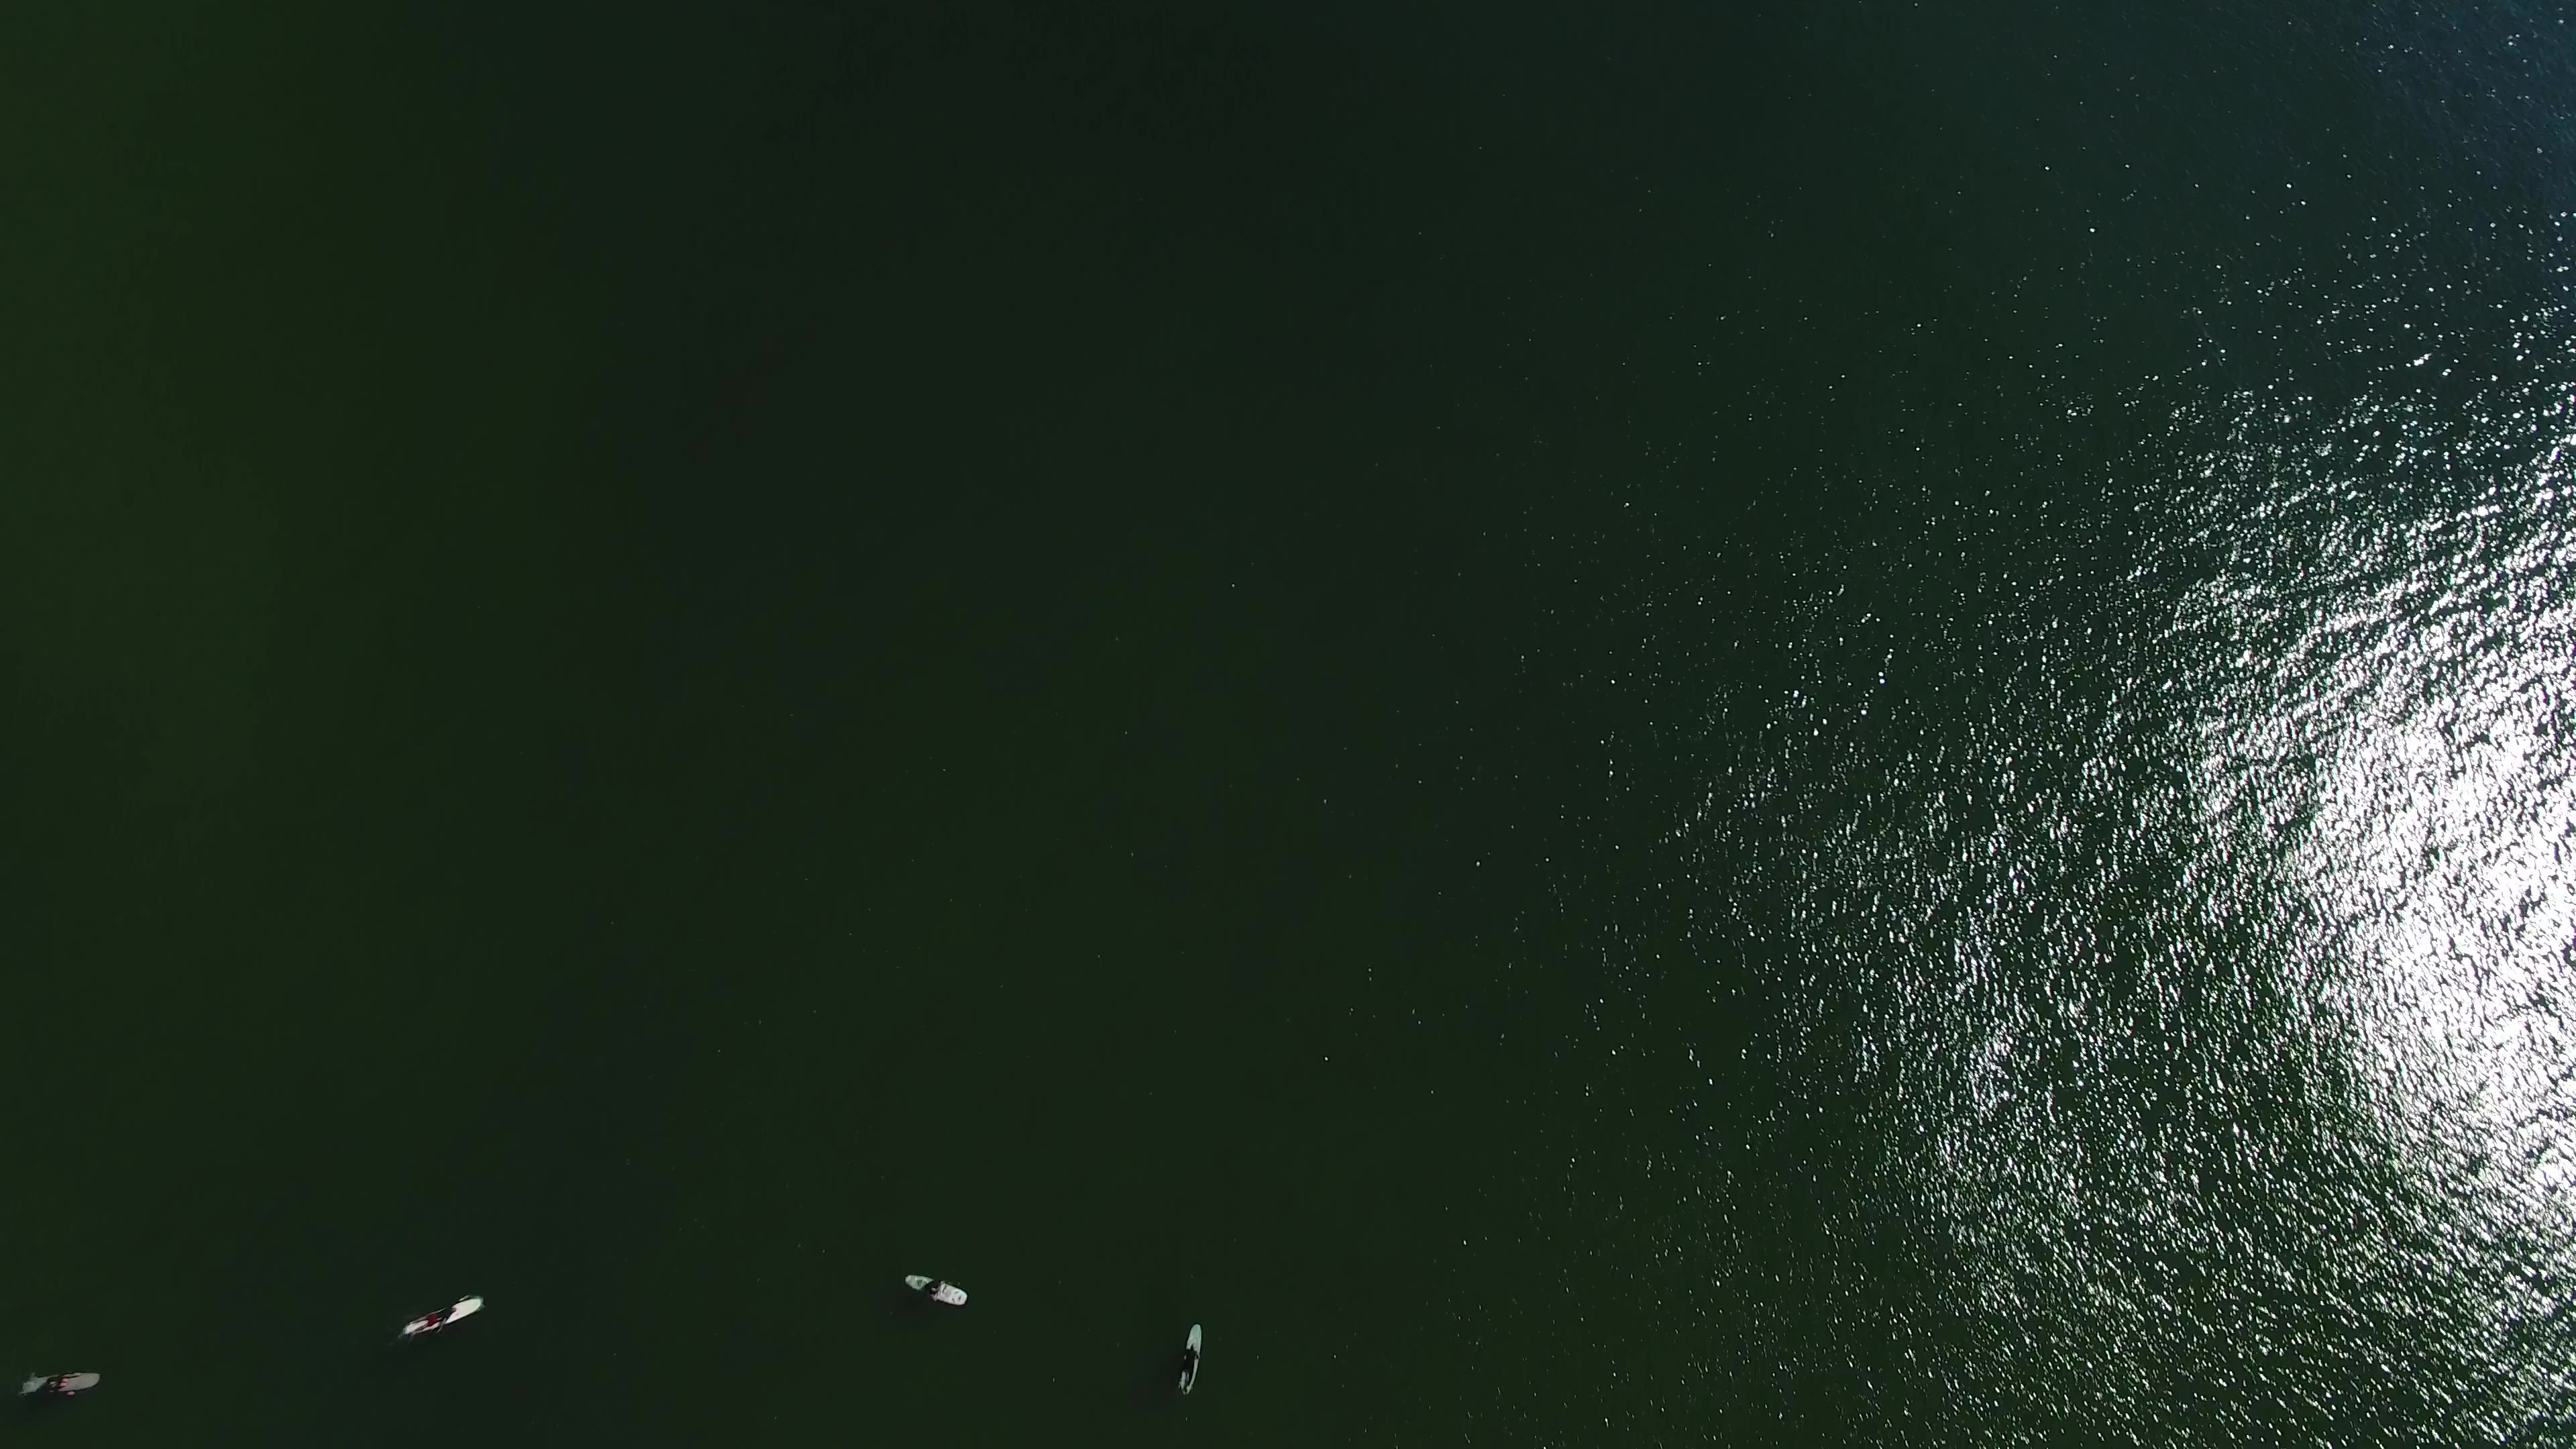surfer: (395, 1288, 492, 1348), (1164, 1322, 1217, 1405), (5, 1366, 113, 1407), (897, 1267, 980, 1311)
